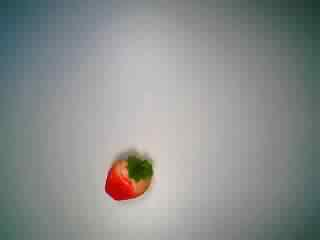strawberry: (91, 144, 157, 210)
